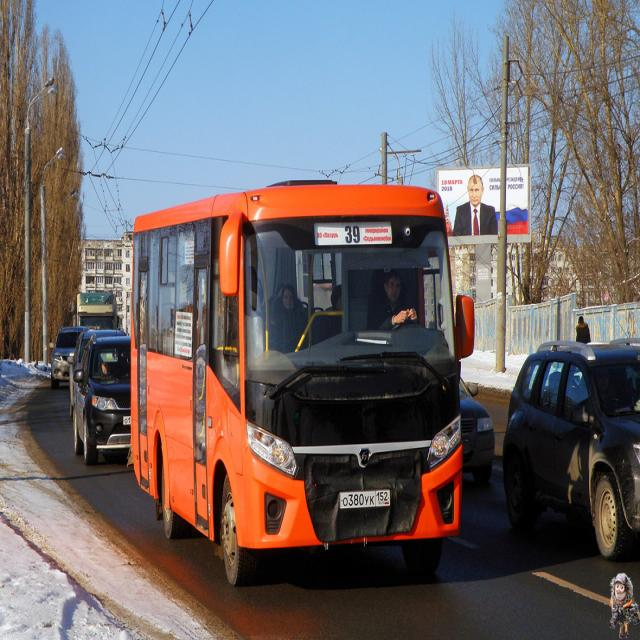number-of-bus: (344, 223, 362, 245)
